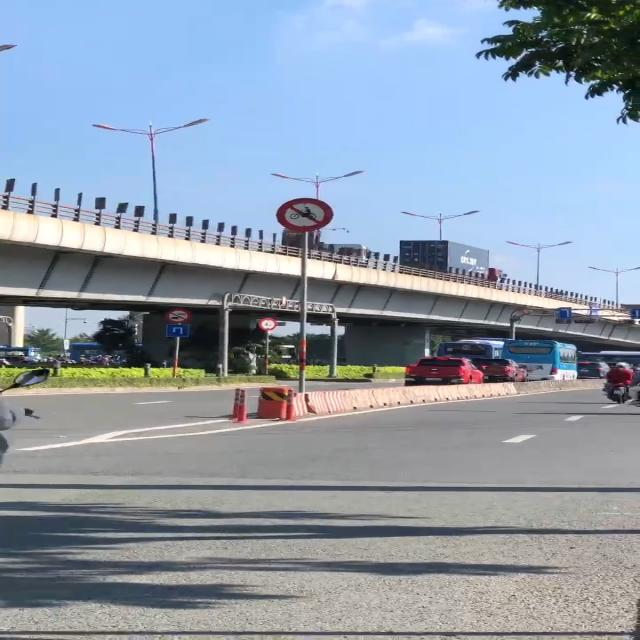Bien bao cam xe may: (271, 193, 342, 236)
